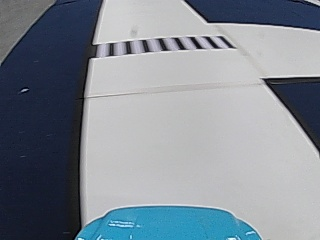CrossWalk: (94, 33, 228, 57)
